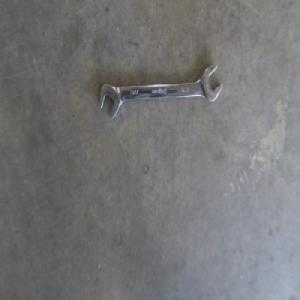Wrench: (96, 66, 224, 124)
